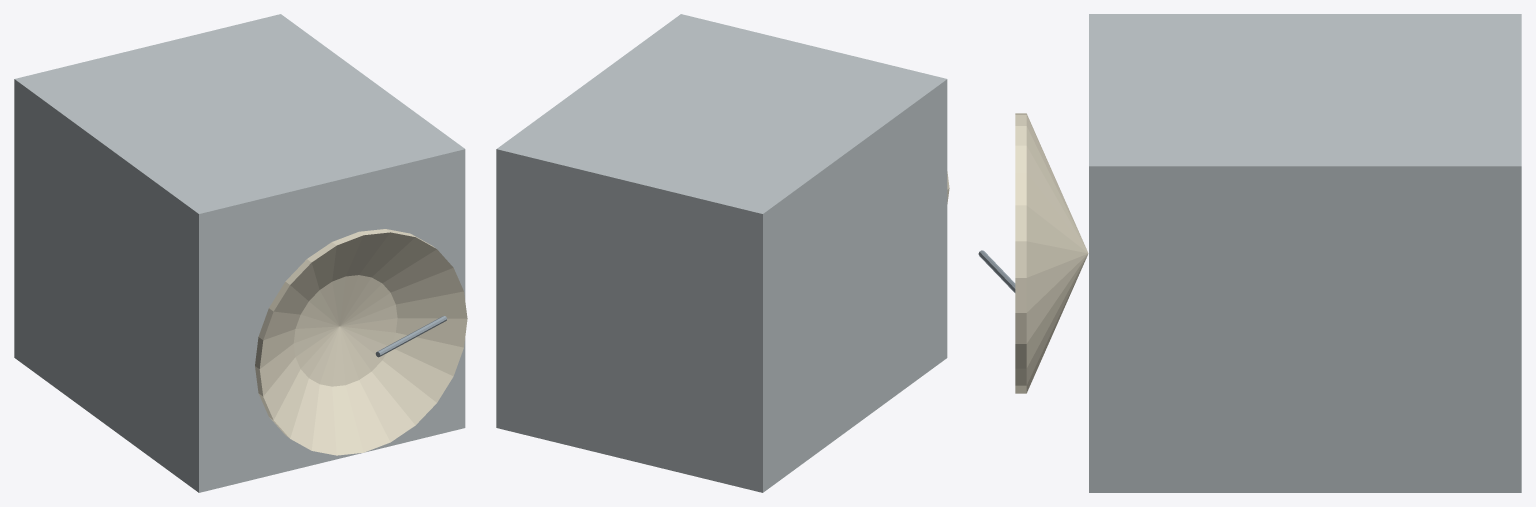
Rendered from ref-corvus-xl-48907.glb.
3 views of the same model, side by side, from view 1: azimuth 30°, elevation 25°; view 2: azimuth 150°, elevation 25°; view 3: azimuth 270°, elevation 25° (orthographic). The views are drawn at different scales.
Visible parts, largest first — view 1: Spacecraft body, Reflector dish, Feed support; view 2: Spacecraft body; view 3: Spacecraft body, Reflector dish.
Part boxes in pixels (<box>): Spacecraft body: <box>14,14,465,492</box>; Reflector dish: <box>255,229,467,455</box>; Feed support: <box>375,316,446,357</box>; Spacecraft body: <box>496,14,947,492</box>; Spacecraft body: <box>1089,14,1521,492</box>; Reflector dish: <box>1015,113,1088,393</box>.
Size of the model in its own units: 0.5 by 0.5 by 0.7533.
